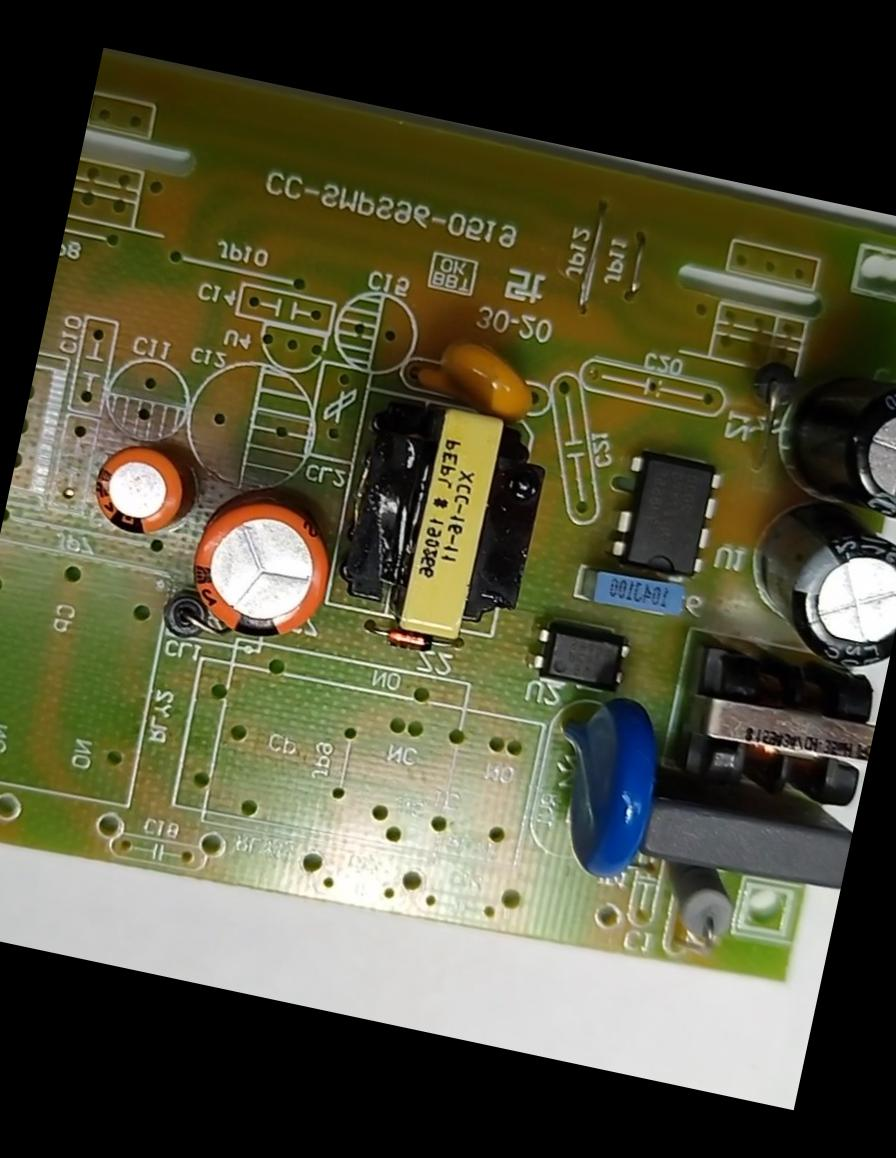Cap1: (166, 484, 347, 658)
Cap2: (80, 431, 197, 557)
Cap3: (725, 495, 895, 680)
Cap4: (758, 354, 895, 537)
MOSFET: (596, 443, 731, 588)
Mov: (522, 684, 674, 893)
Resistor: (651, 864, 747, 959)
Transformer: (327, 380, 564, 663), (660, 638, 884, 828)
